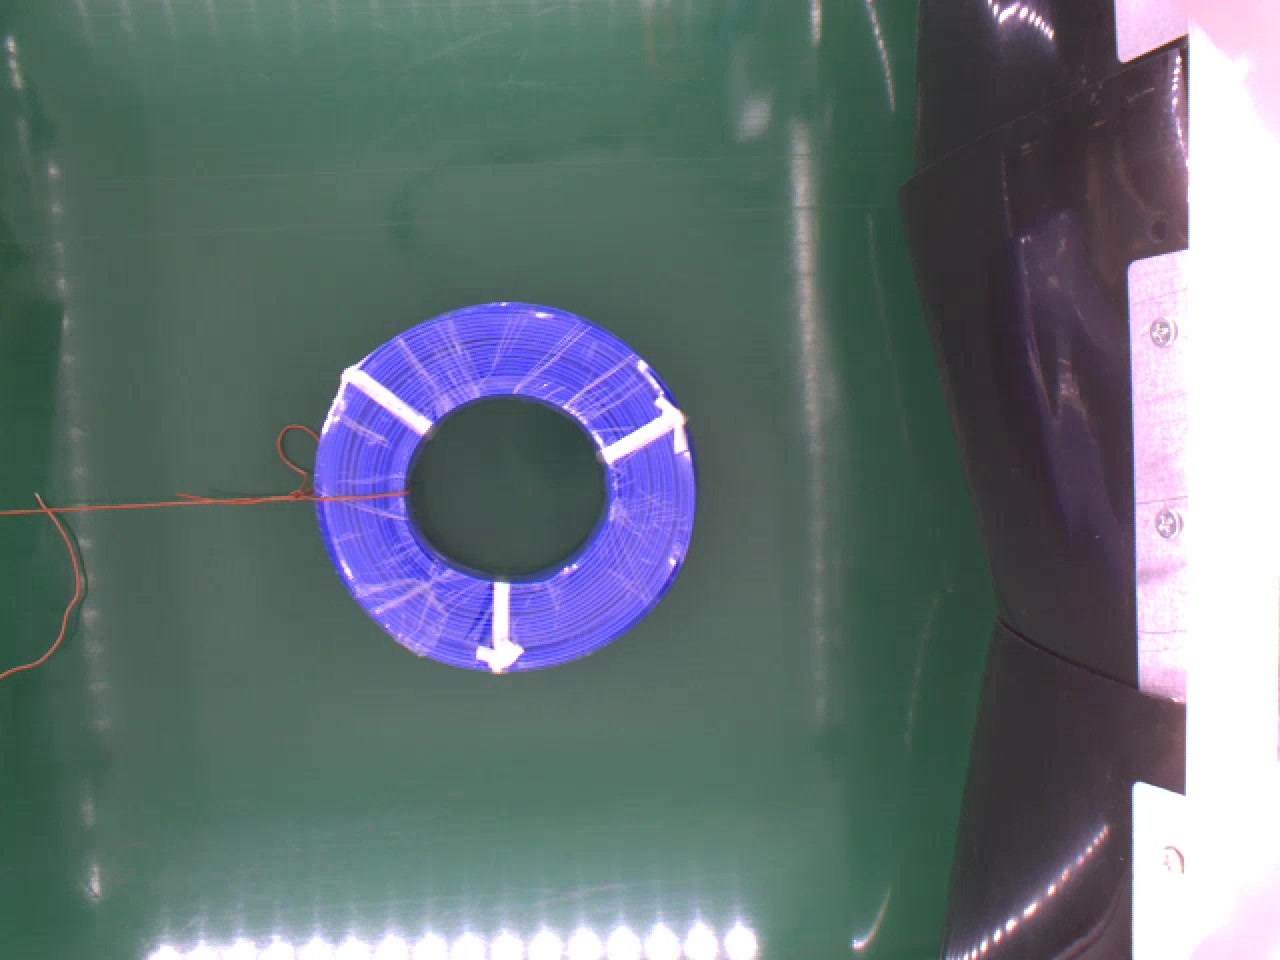blue: (310, 298, 701, 676)
